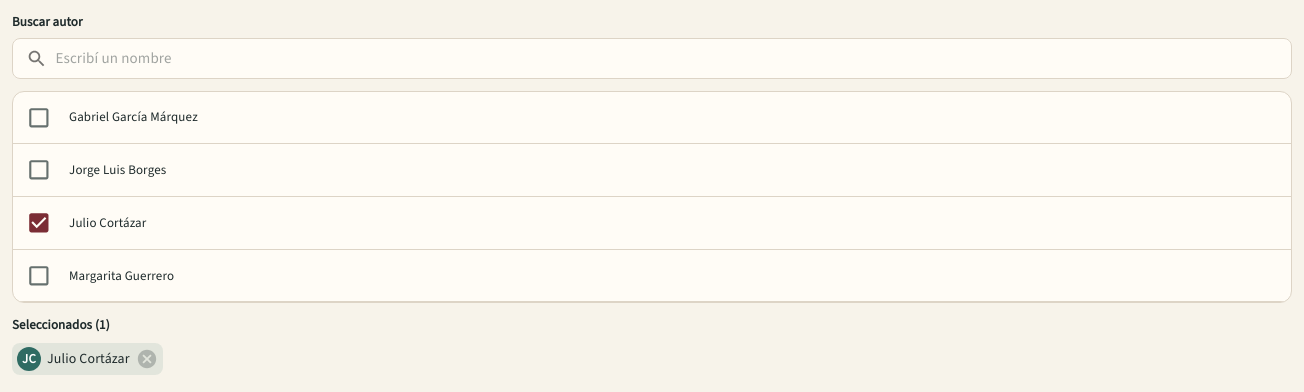
AuthorPicker › quita un autor seleccionado desde el chip
This screenshot has width=1304, height=392.
Step 1. Click the button named "Quitar Julio Cortázar" → x=87, y=359, box [12,343,163,375]
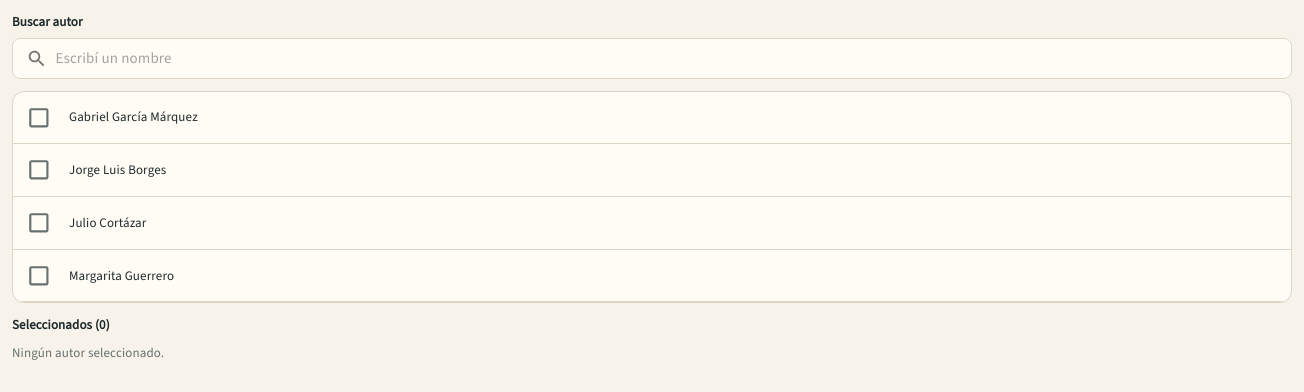
Expected: the text "Ningún autor seleccionado." is shown, [12,344,164,361]
